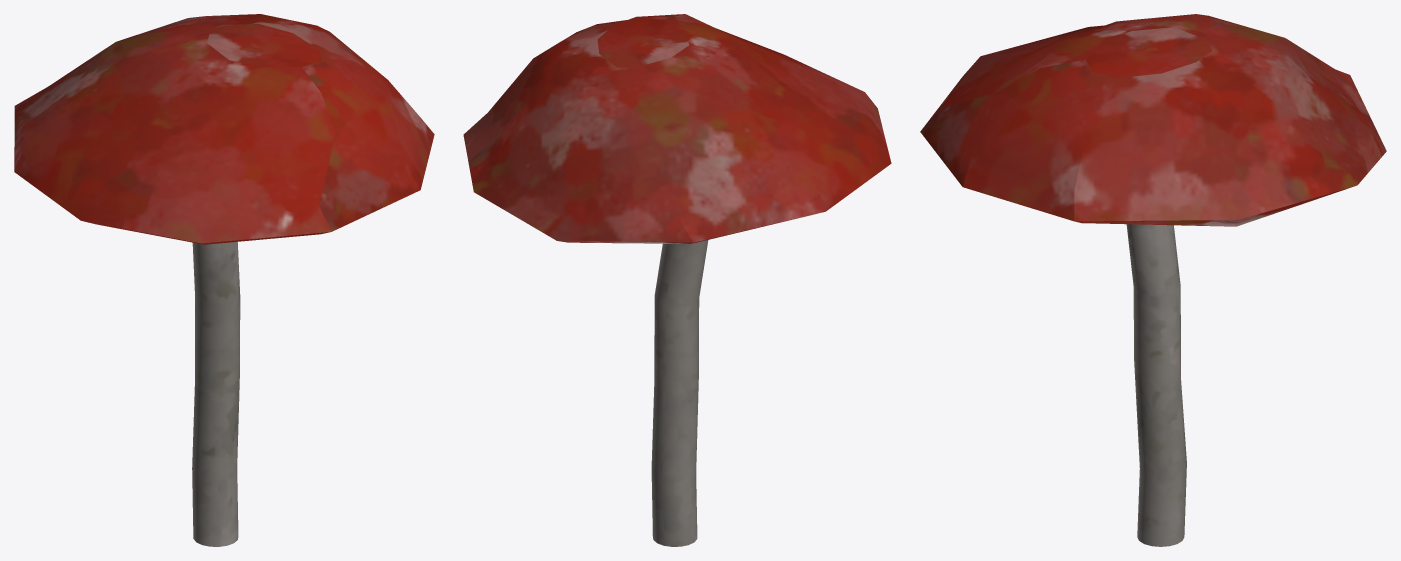
The model's file is Sm_Fungus5.fbx.
3 views of the same model, side by side, from view 1: azimuth 30°, elevation 25°; view 2: azimuth 150°, elevation 25°; view 3: azimuth 270°, elevation 25° (orthographic). The views are drawn at different scales.
Parts seen in each view (by area): view 1: Sm_Fungus5; view 2: Sm_Fungus5; view 3: Sm_Fungus5.
Part boxes in pixels (x1=…): Sm_Fungus5: x1=14, y1=14, x2=434, y2=546; Sm_Fungus5: x1=463, y1=14, x2=891, y2=546; Sm_Fungus5: x1=920, y1=14, x2=1386, y2=546.
Size of the model in its own units: 14.27 by 18.88 by 15.7.
